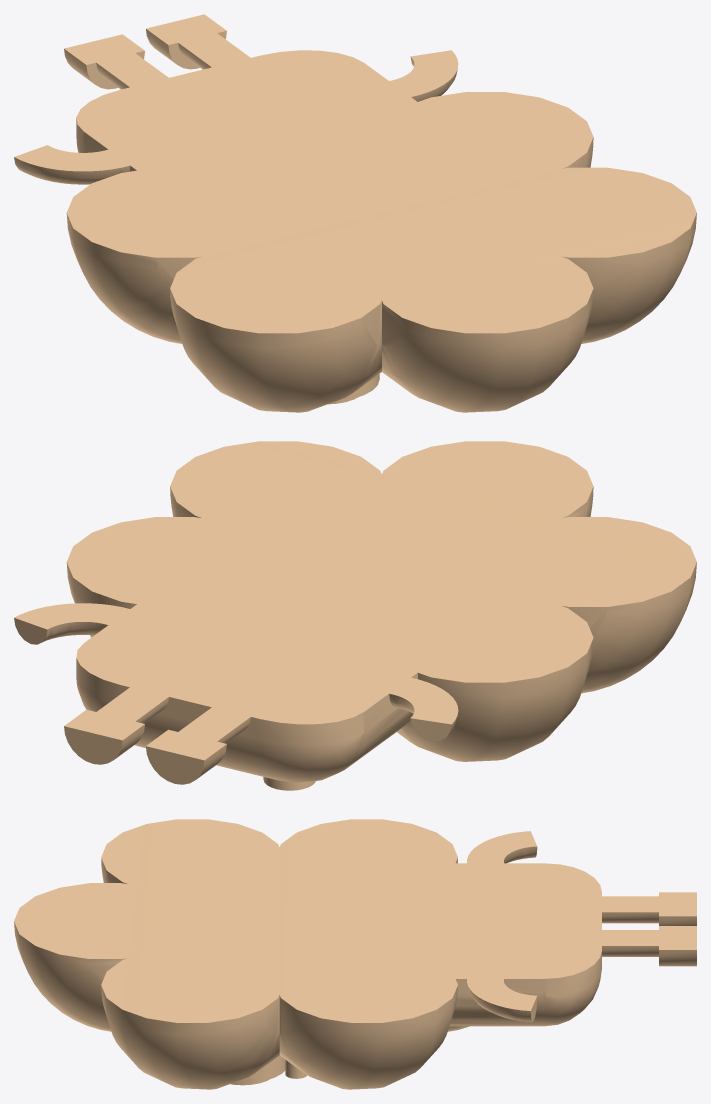
The model's file is cartoon.glb.
The picture shows the model from 3 angles, top to bottom: view 1: azimuth 30°, elevation 25°; view 2: azimuth 150°, elevation 25°; view 3: azimuth 270°, elevation 25°; orthographic projection. The views are drawn at different scales.
Visible parts, largest first — view 1: cartoon; view 2: cartoon; view 3: cartoon.
Boxes of the visible parts, x1,y1,x2,y2 form: cartoon: (14,14,696,412); cartoon: (14,441,696,790); cartoon: (14,819,696,1089).
Bounding box in the file's own units: 38.09 × 10.27 × 54.
